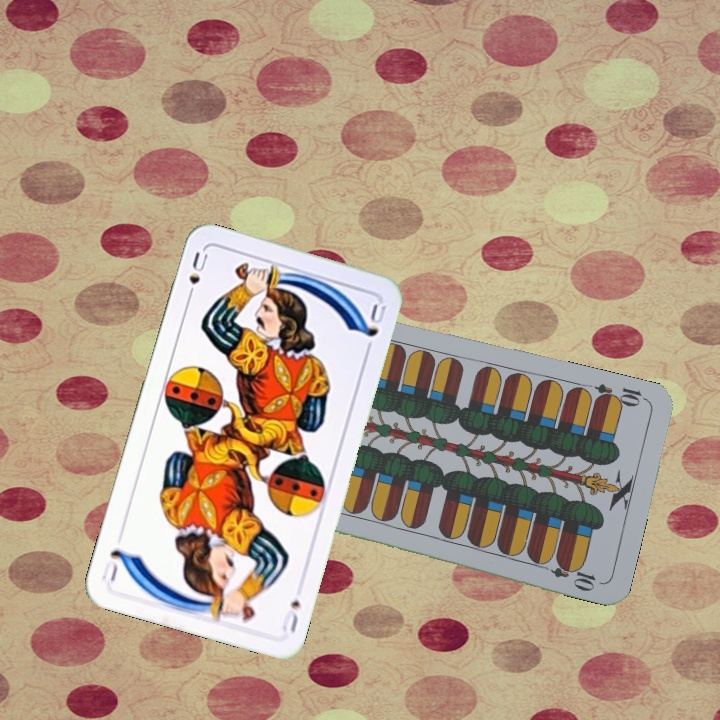E10: (591, 379, 650, 410)
SU: (183, 248, 211, 304), (281, 596, 303, 635)
